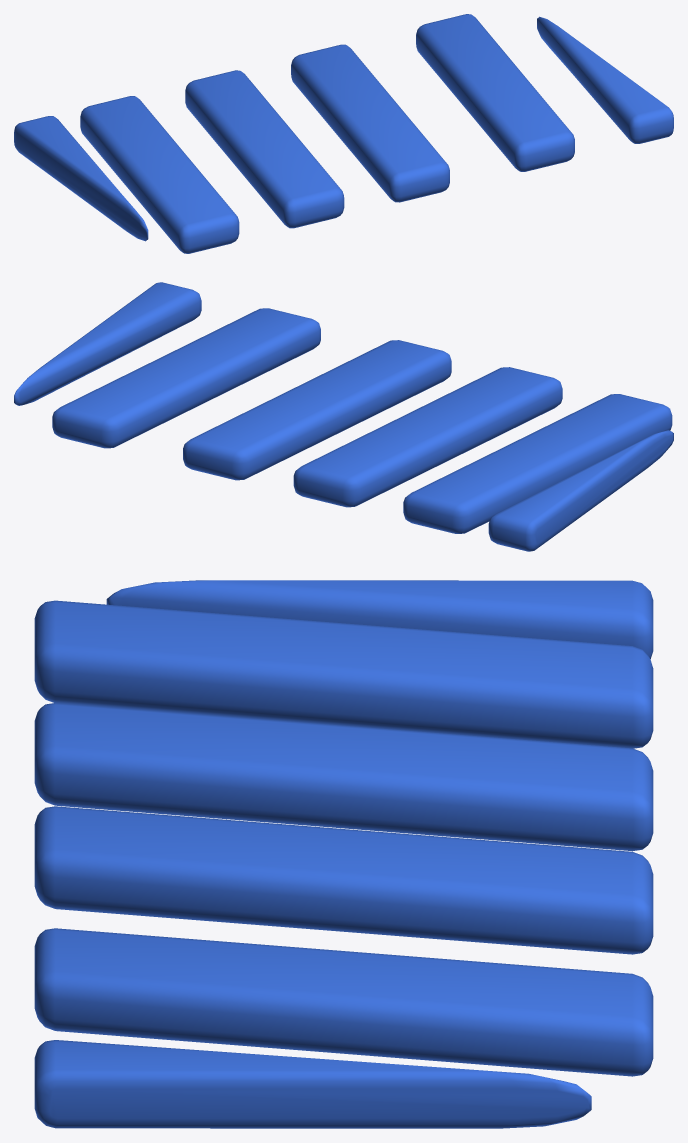
File: RoadMarkupParking_B_UV.fbx
3 renders of one model, top to bottom at view 1: azimuth 30°, elevation 25°; view 2: azimuth 150°, elevation 25°; view 3: azimuth 270°, elevation 25°, orthographic. The views are drawn at different scales.
Parts seen in each view (by area): view 1: Cube; view 2: Cube; view 3: Cube.
Part boxes in pixels (bbox=[...]): Cube: bbox=[14, 14, 673, 253]; Cube: bbox=[14, 282, 673, 551]; Cube: bbox=[34, 580, 653, 1128].
Bounding box in the file's own units: 185 × 10 × 96.82.
